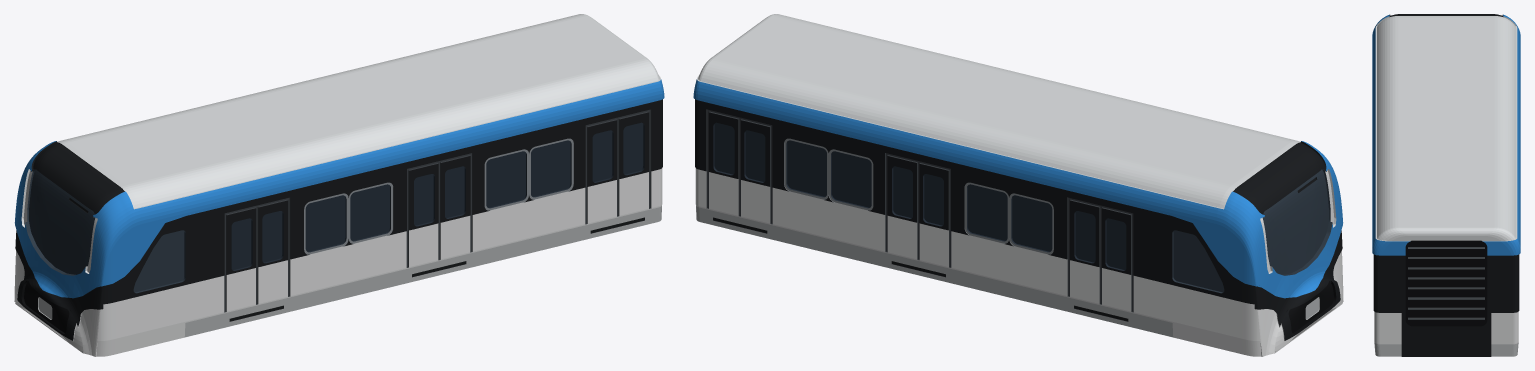
Rendered from riyadh.glb.
3 renders of one model, left to right at view 1: azimuth 30°, elevation 25°; view 2: azimuth 150°, elevation 25°; view 3: azimuth 270°, elevation 25°, orthographic. The views are drawn at different scales.
Visible parts, largest first — view 1: riyadh_riyadh; view 2: riyadh_riyadh; view 3: riyadh_riyadh.
Boxes of the visible parts, x1,y1,x2,y2 form: riyadh_riyadh: (14, 14, 664, 356); riyadh_riyadh: (693, 14, 1343, 356); riyadh_riyadh: (1372, 14, 1520, 356).
Size of the model in its own units: 150 by 37.7 by 40.
